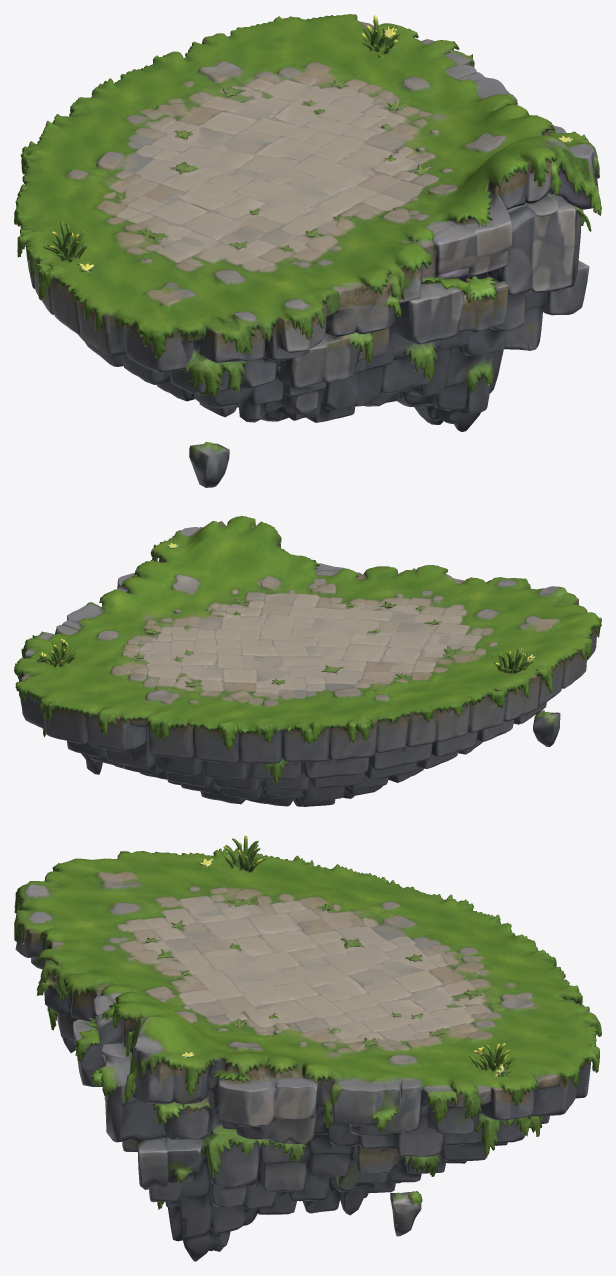
The model's file is island-flat-v2-web.glb.
3 renders of one model, top to bottom at view 1: azimuth 30°, elevation 25°; view 2: azimuth 150°, elevation 25°; view 3: azimuth 270°, elevation 25°, orthographic. The views are drawn at different scales.
Visible parts, largest first — view 1: tripo_node_a02264bc-14dd-4587-8488-bdd92dcfaa37; view 2: tripo_node_a02264bc-14dd-4587-8488-bdd92dcfaa37; view 3: tripo_node_a02264bc-14dd-4587-8488-bdd92dcfaa37.
Part boxes in pixels (bbox=[...]): tripo_node_a02264bc-14dd-4587-8488-bdd92dcfaa37: bbox=[14, 14, 601, 487]; tripo_node_a02264bc-14dd-4587-8488-bdd92dcfaa37: bbox=[14, 516, 601, 806]; tripo_node_a02264bc-14dd-4587-8488-bdd92dcfaa37: bbox=[14, 835, 601, 1261].
Size of the model in its own units: 4.93 by 2.54 by 4.94.
Materials: 1 (1 with a texture image).
